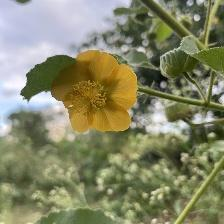indian mallow: (52, 50, 141, 134)
